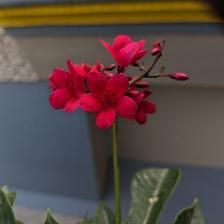jatropha: (80, 72, 140, 131)
